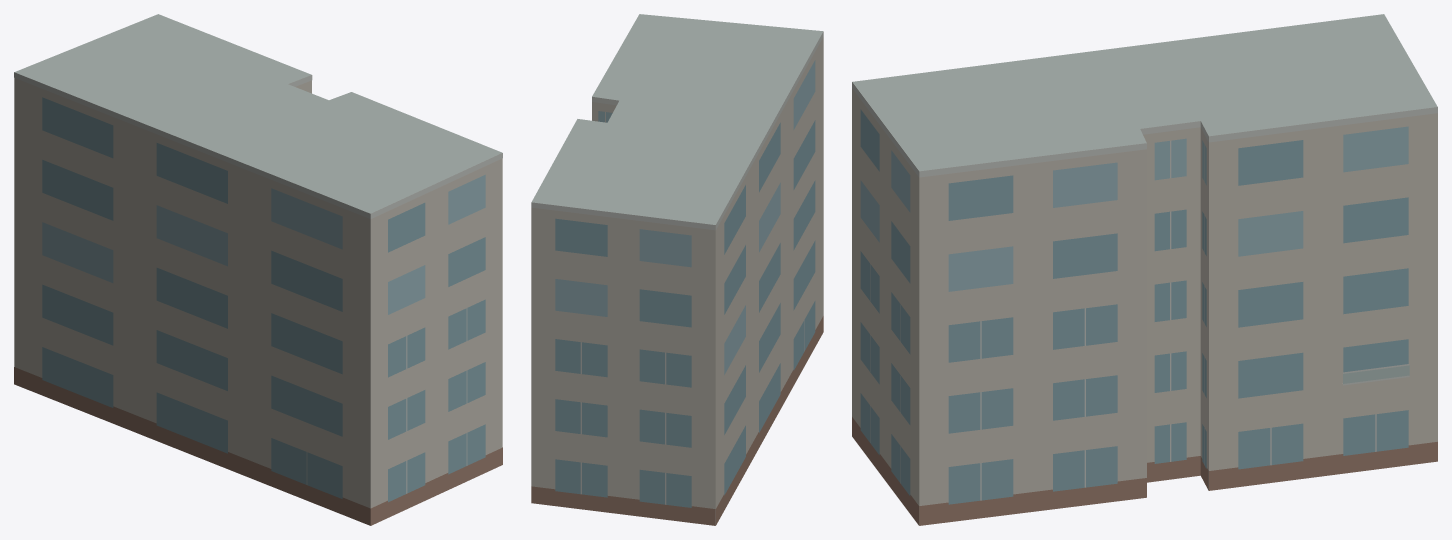
File: survey-upis-32564312.glb
3 renders of one model, left to right at view 1: azimuth 30°, elevation 25°; view 2: azimuth 150°, elevation 25°; view 3: azimuth 270°, elevation 25°, orthographic. The views are drawn at different scales.
Parts seen in each view (by area): view 1: survey-upis-32564312.tmp; view 2: survey-upis-32564312.tmp; view 3: survey-upis-32564312.tmp.
Boxes of the visible parts, x1,y1,x2,y2 form: survey-upis-32564312.tmp: (14,14,502,525); survey-upis-32564312.tmp: (531,14,823,525); survey-upis-32564312.tmp: (852,14,1437,525).
Size of the model in its own units: 13.34 by 14 by 20.97.
